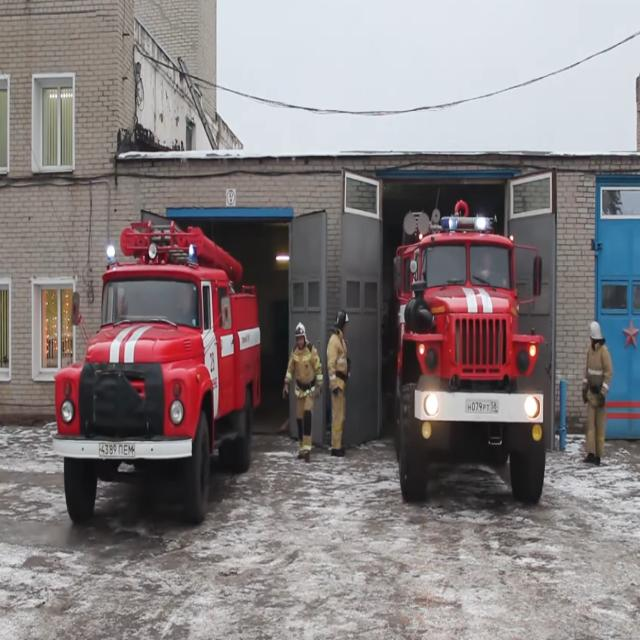fire fighting vehicle: (54, 223, 263, 524), (391, 202, 548, 508)
